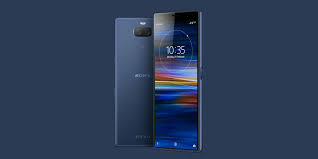sony: (109, 6, 205, 153)
